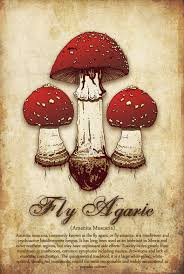Amanita muscaria: (43, 15, 131, 173), (103, 81, 161, 173), (18, 82, 74, 173)
